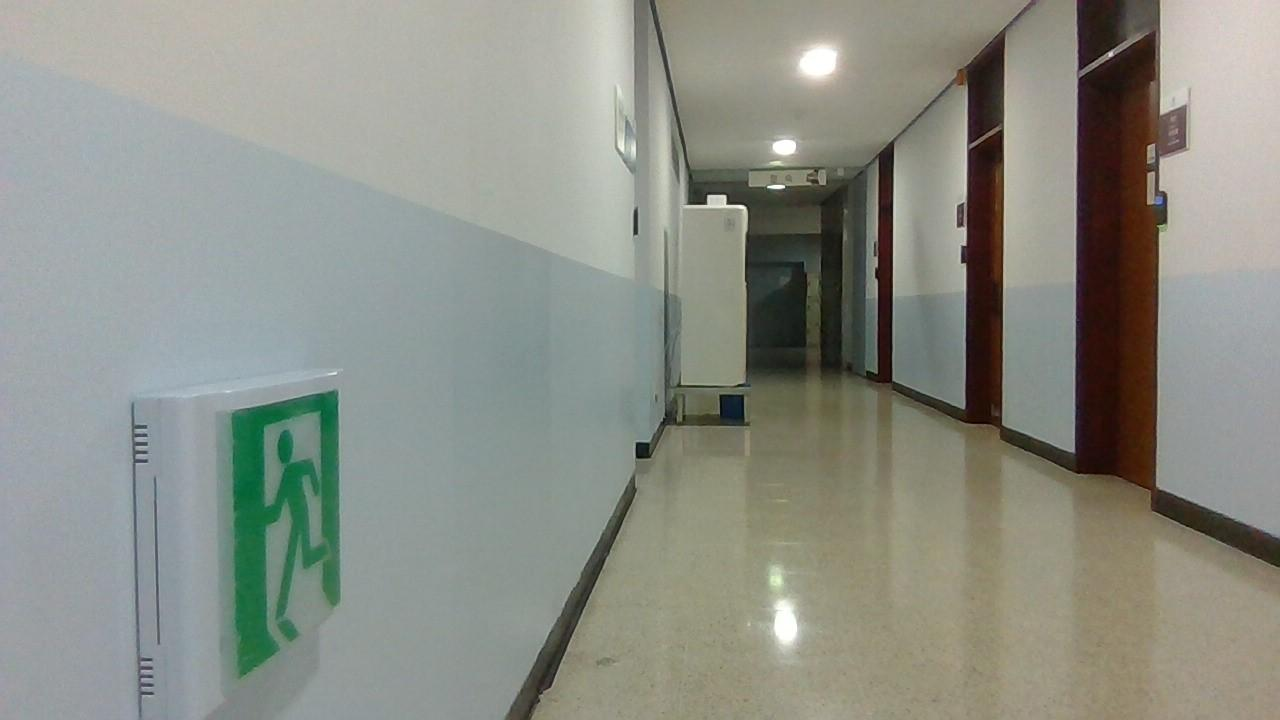emergency_exit: (130, 369, 344, 717), (220, 386, 343, 680)
